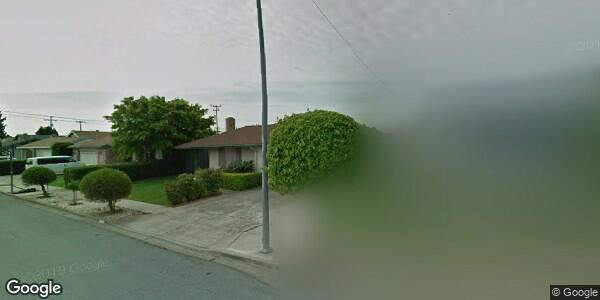Steel_Pole: (245, 1, 275, 257)
